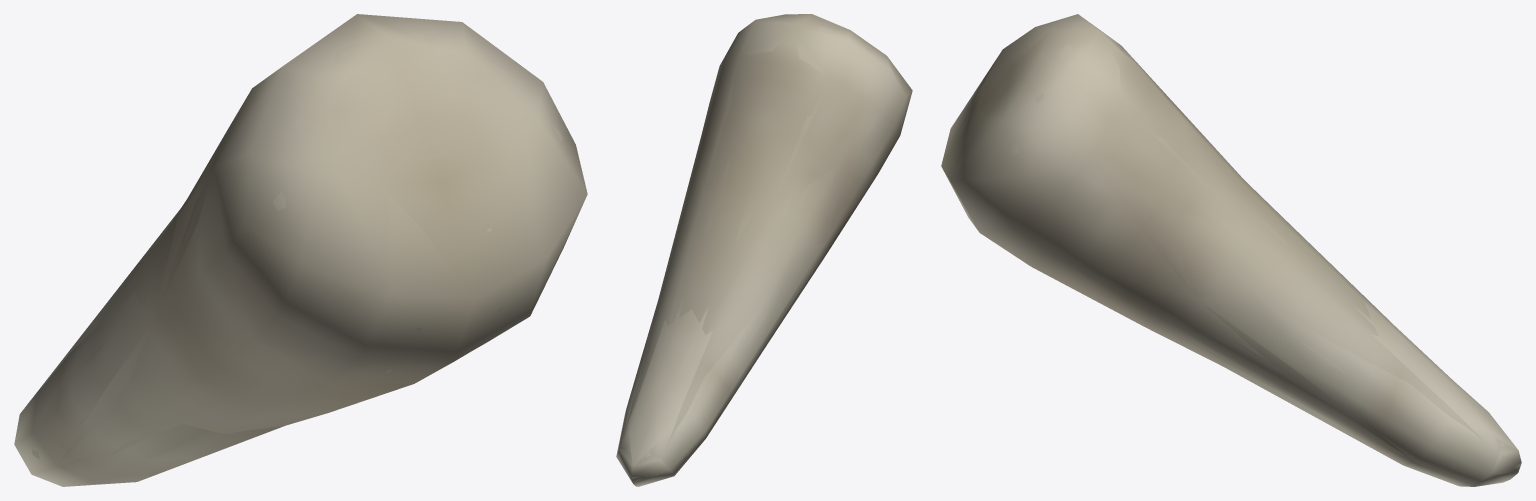
Rendered from vertebrae caudales 20.fbx.
The picture shows the model from 3 angles, left to right: view 1: azimuth 30°, elevation 25°; view 2: azimuth 150°, elevation 25°; view 3: azimuth 270°, elevation 25°; orthographic projection. The views are drawn at different scales.
Parts seen in each view (by area): view 1: vertebrae caudales 20, vertebrae caudales 20 low, vertebrae caudales 20 high; view 2: vertebrae caudales 20, vertebrae caudales 20 low, vertebrae caudales 20 high; view 3: vertebrae caudales 20, vertebrae caudales 20 low, vertebrae caudales 20 high.
Part boxes in pixels (bbox=[...]): vertebrae caudales 20: bbox=[14, 14, 587, 486]; vertebrae caudales 20 low: bbox=[23, 14, 585, 486]; vertebrae caudales 20 high: bbox=[31, 31, 563, 478]; vertebrae caudales 20: bbox=[616, 14, 912, 486]; vertebrae caudales 20 low: bbox=[616, 14, 910, 476]; vertebrae caudales 20 high: bbox=[628, 18, 899, 457]; vertebrae caudales 20: bbox=[941, 14, 1521, 486]; vertebrae caudales 20 low: bbox=[941, 16, 1521, 486]; vertebrae caudales 20 high: bbox=[960, 25, 1504, 469].
Size of the model in its own units: 0.2512 by 0.4856 by 0.5659.
1 material, 1 textured.
